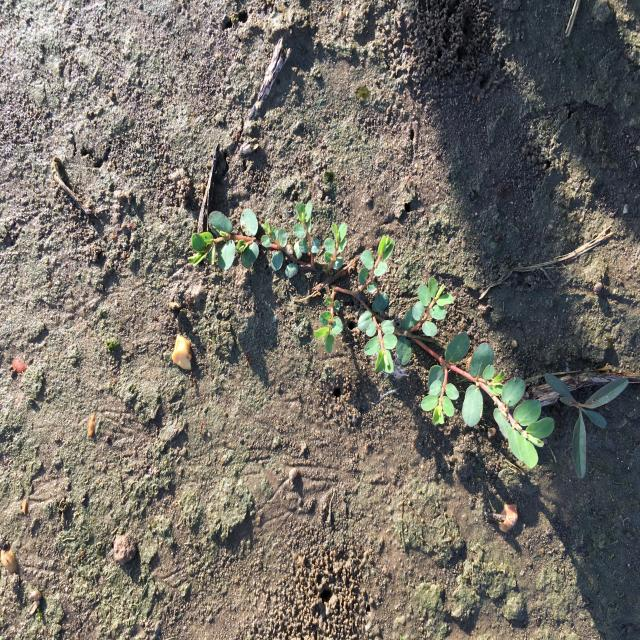SpottedSpurge: (186, 198, 556, 472)
Waterhemp: (544, 368, 631, 483)
